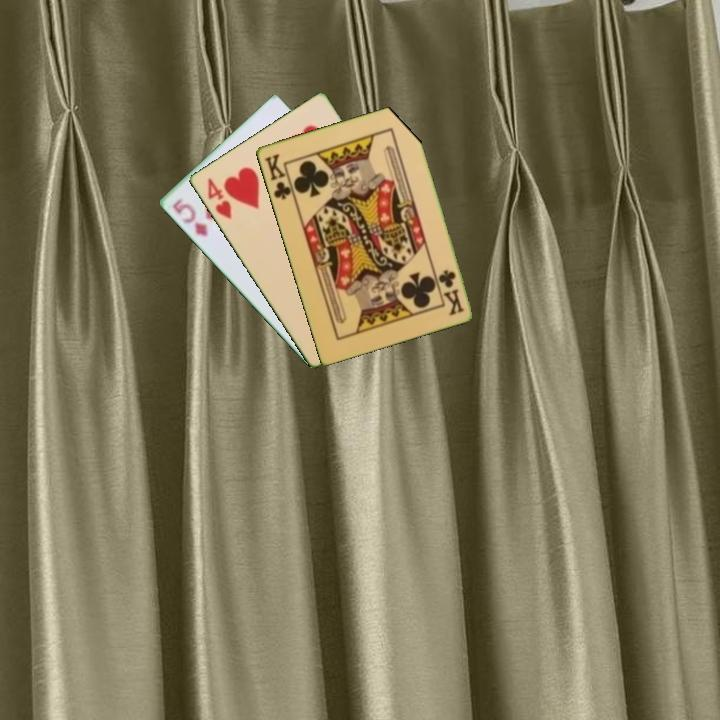4h: (203, 174, 234, 222)
5d: (169, 194, 211, 240)
Kc: (260, 150, 296, 203), (435, 266, 467, 318)
